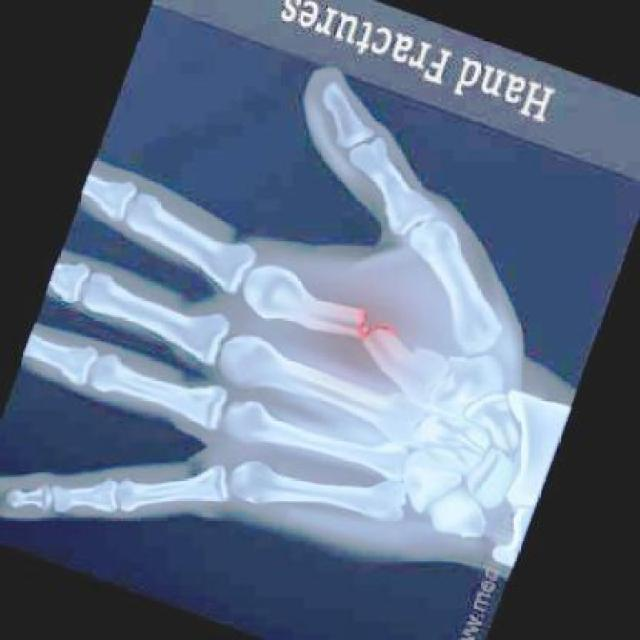Fracture: (335, 286, 411, 364)
